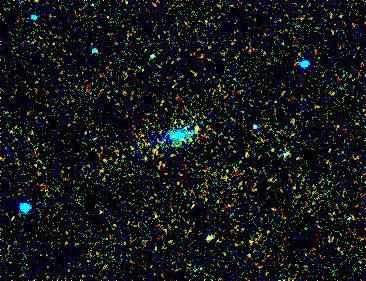star: (182, 114, 212, 144)
